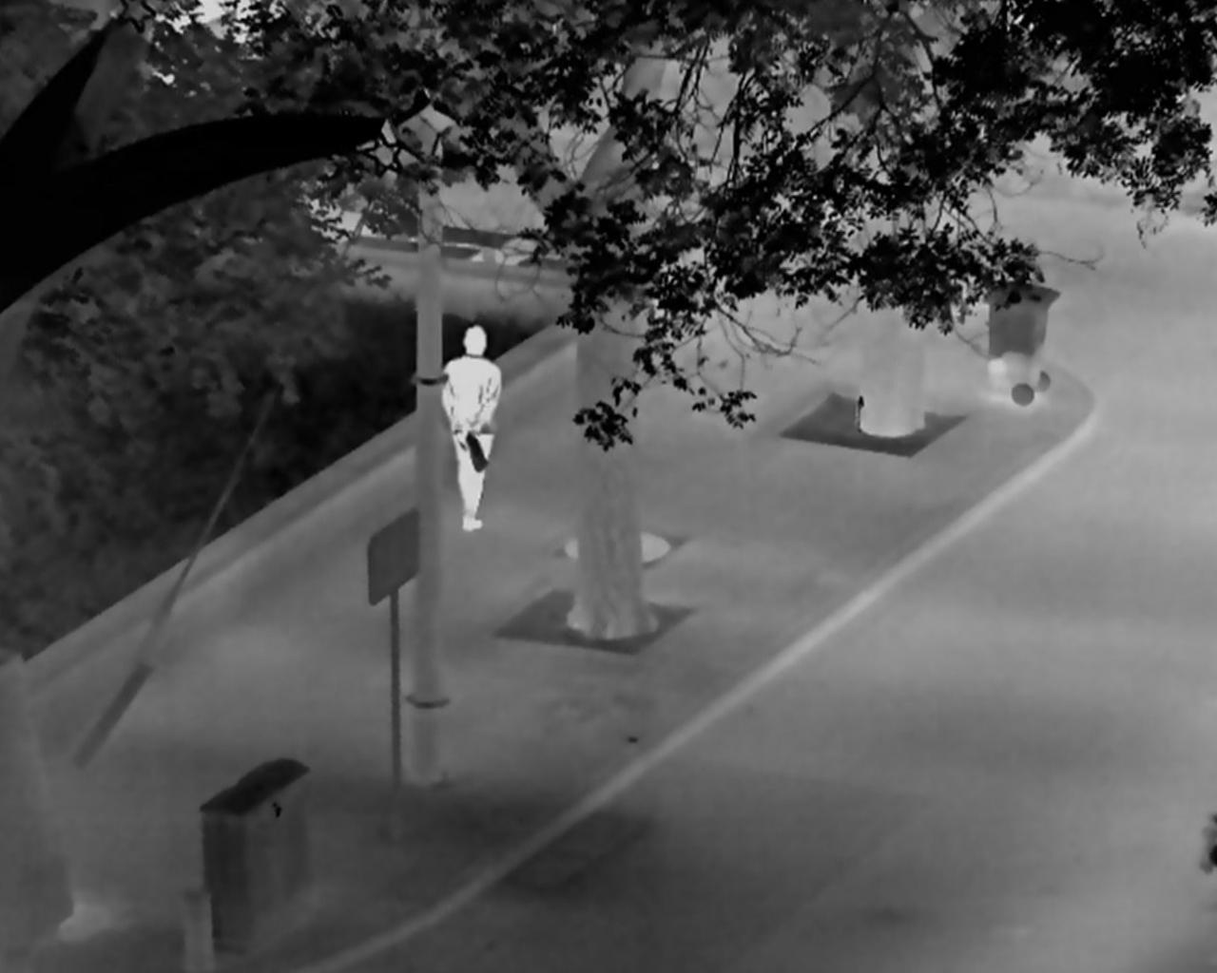person: (441, 322, 504, 533)
